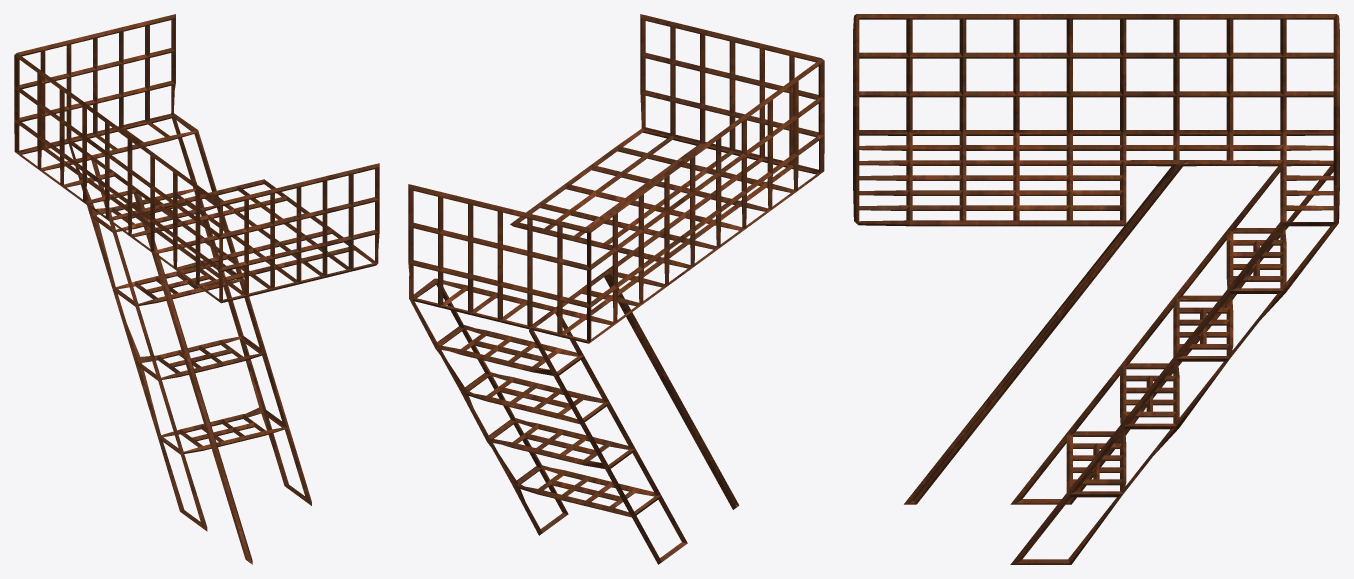
Rendered from fire-stairs.glb.
3 renders of one model, left to right at view 1: azimuth 30°, elevation 25°; view 2: azimuth 150°, elevation 25°; view 3: azimuth 270°, elevation 25°, orthographic. The views are drawn at different scales.
Parts seen in each view (by area): view 1: FireStairs; view 2: FireStairs; view 3: FireStairs.
Boxes of the visible parts, x1,y1,x2,y2 form: FireStairs: [14, 14, 379, 564]; FireStairs: [408, 14, 824, 564]; FireStairs: [853, 14, 1339, 564].
Size of the model in its own units: 0.8652 by 2 by 1.92.
1 material, 1 textured.
